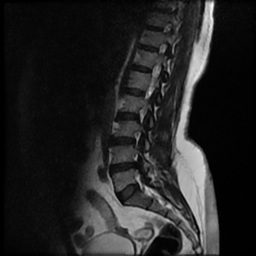RFS1: (125, 125, 146, 152)
